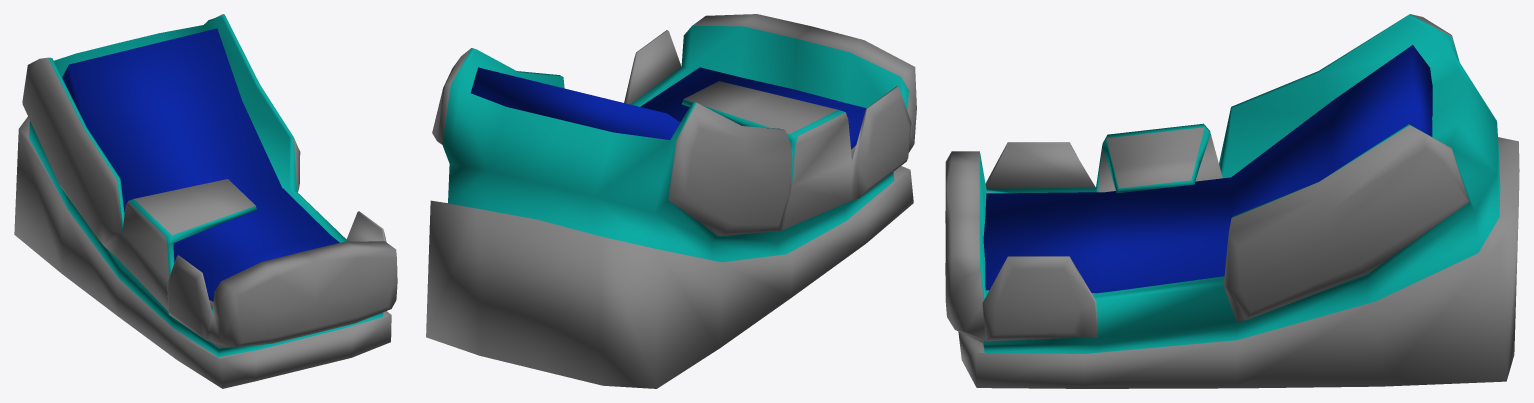
The model's file is bed.fbx.
The picture shows the model from 3 angles, left to right: view 1: azimuth 30°, elevation 25°; view 2: azimuth 150°, elevation 25°; view 3: azimuth 270°, elevation 25°; orthographic projection. The views are drawn at different scales.
Parts seen in each view (by area): view 1: Cube.001; view 2: Cube.001; view 3: Cube.001.
Boxes of the visible parts, x1,y1,x2,y2 form: Cube.001: (14, 14, 397, 388); Cube.001: (426, 14, 916, 388); Cube.001: (945, 14, 1519, 388).
Bounding box in the file's own units: 594 × 597 × 1168.
